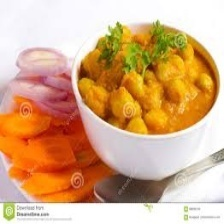sabzi: (77, 31, 219, 134)
